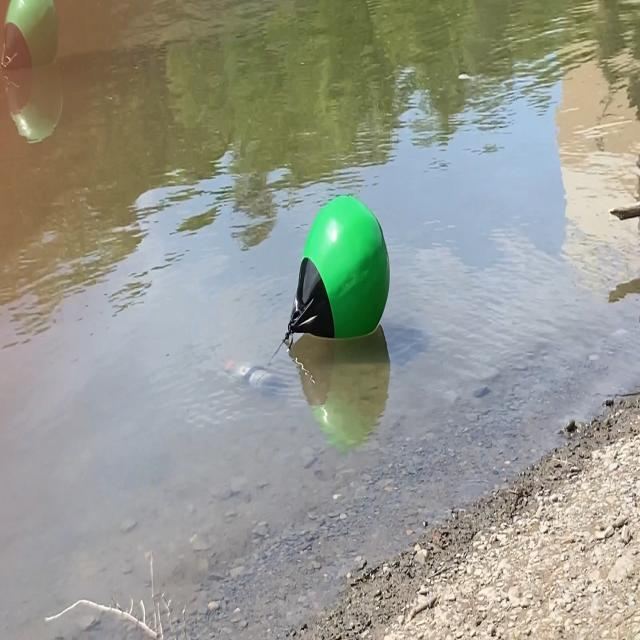buoy: (285, 192, 393, 344)
